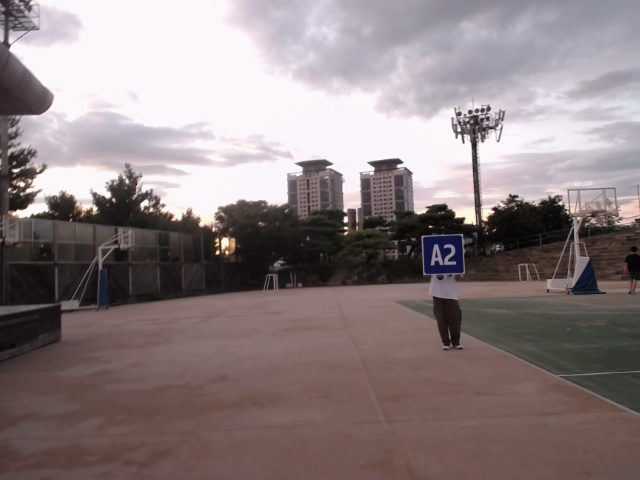delivery_a2: (422, 235, 464, 274)
